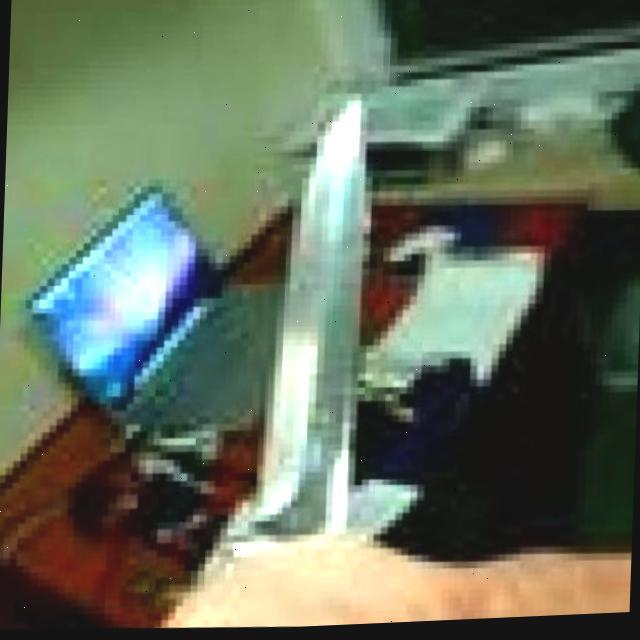knife: (225, 100, 372, 565)
